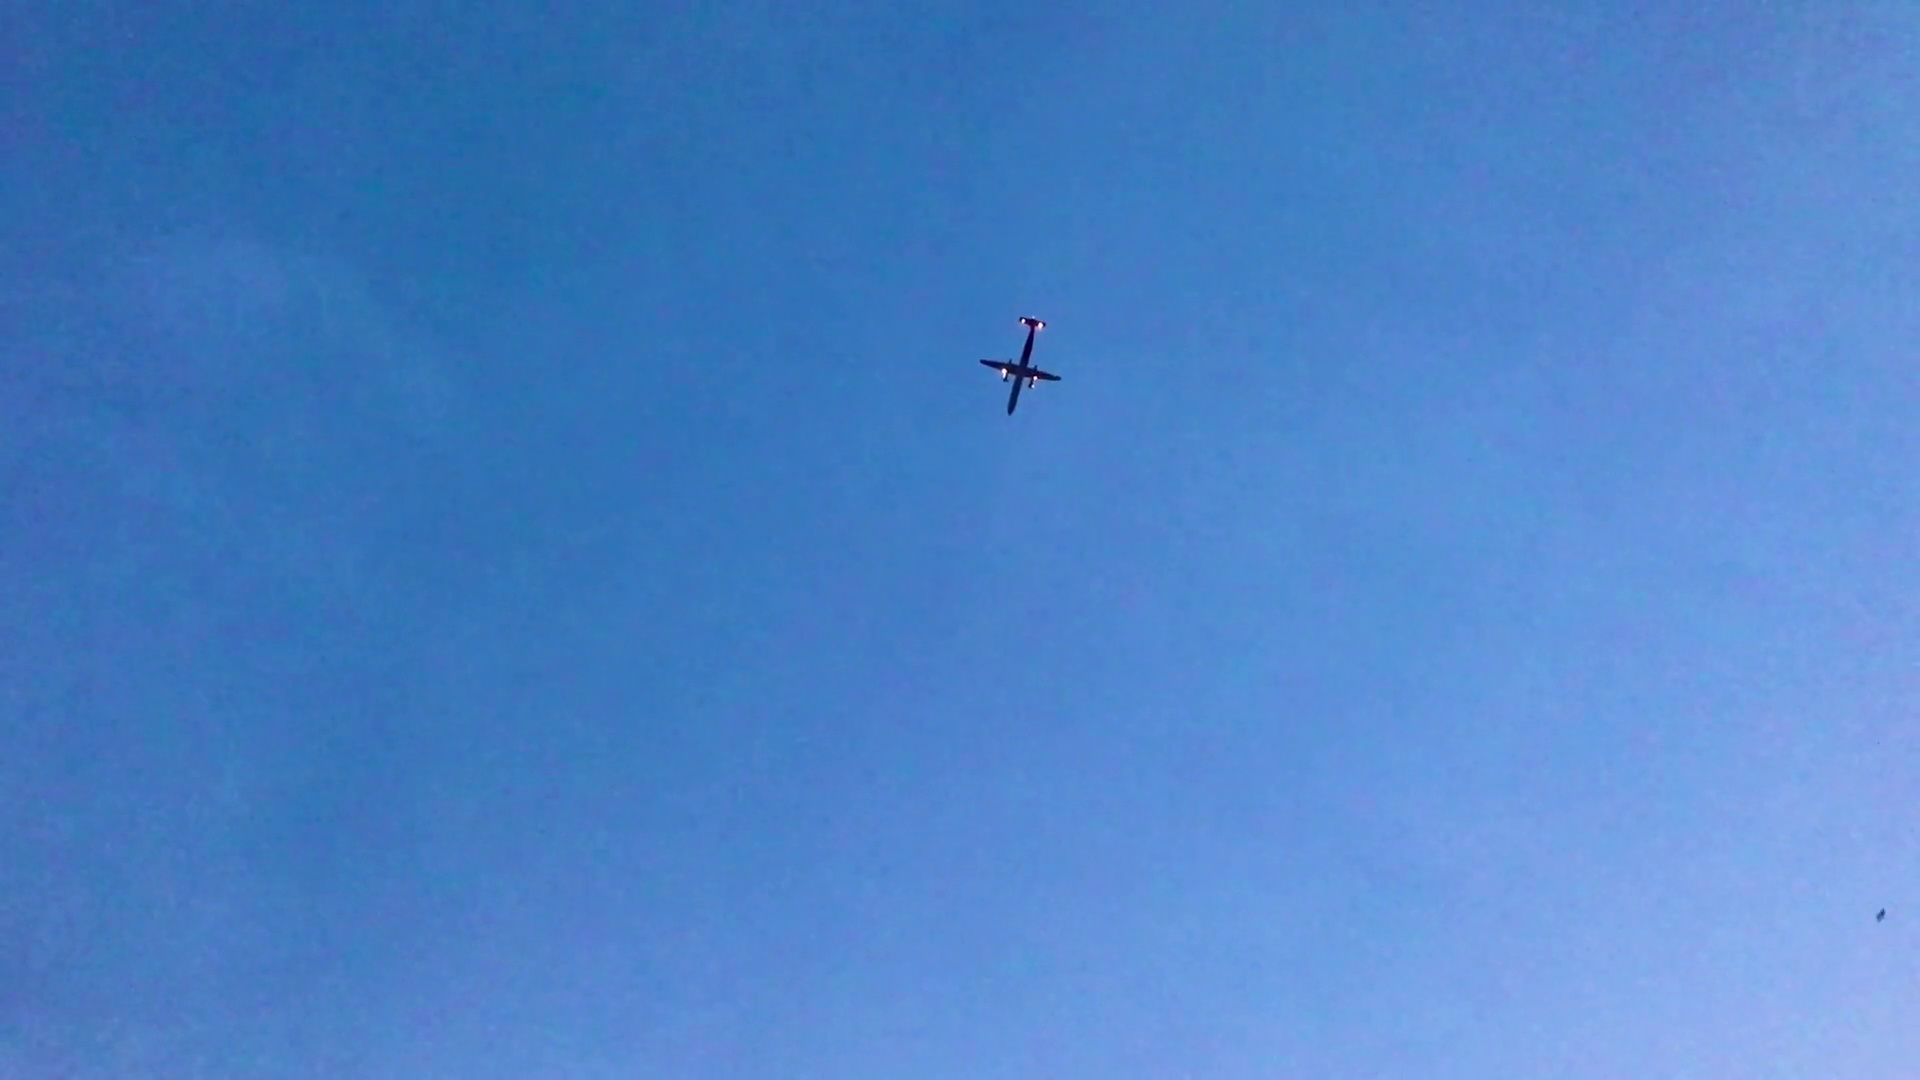plane: (977, 315, 1060, 417)
